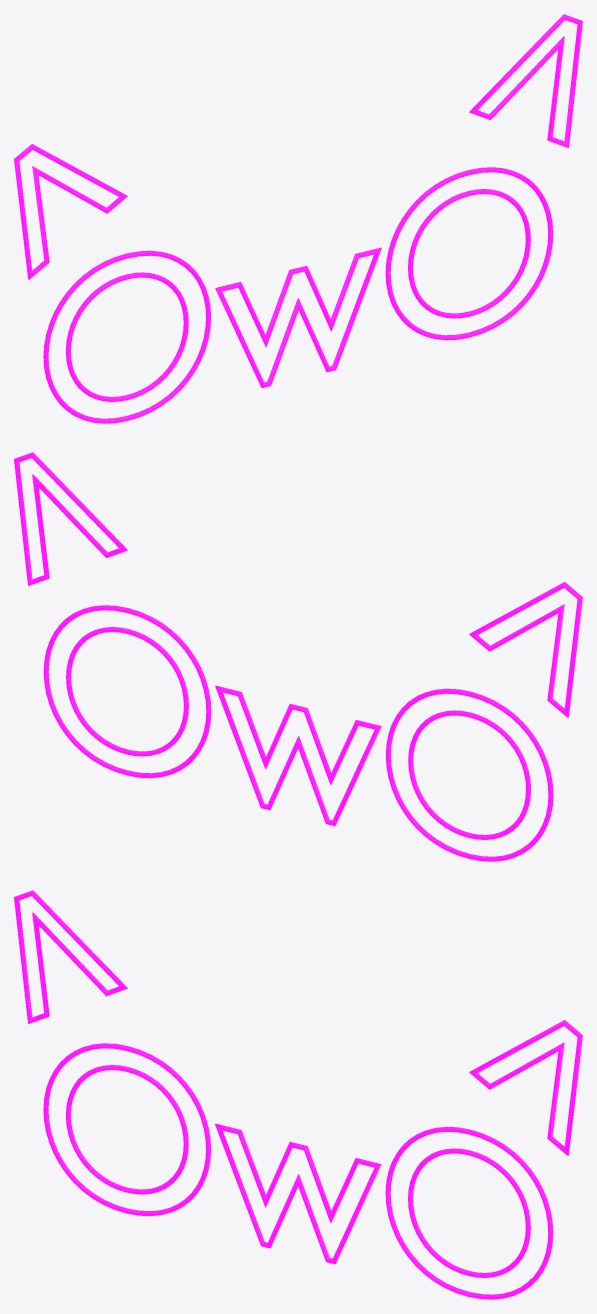
The model's file is neon.glb.
3 views of the same model, one above another, from view 1: azimuth 30°, elevation 25°; view 2: azimuth 150°, elevation 25°; view 3: azimuth 330°, elevation 25° (orthographic).
Visible parts, largest first — view 1: Text, Text002, Text001; view 2: Text, Text002, Text001; view 3: Text, Text001, Text002.
Boxes of the visible parts, box(x1,y1,x2,y2) form: Text: box(43, 167, 553, 423); Text002: box(469, 14, 582, 147); Text001: box(14, 144, 127, 279); Text: box(43, 605, 553, 861); Text002: box(14, 452, 127, 585); Text001: box(469, 582, 582, 717); Text: box(43, 1043, 553, 1299); Text001: box(14, 890, 127, 1024); Text002: box(469, 1020, 582, 1155).
Bounding box in the file's own units: 4.3 × 2.17 × 0.0336.
